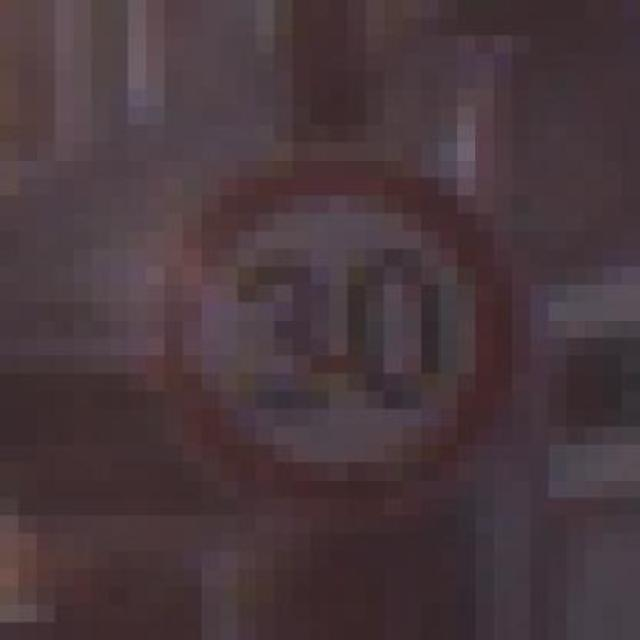Speed Limit 30 KMPh: (110, 142, 585, 587)
